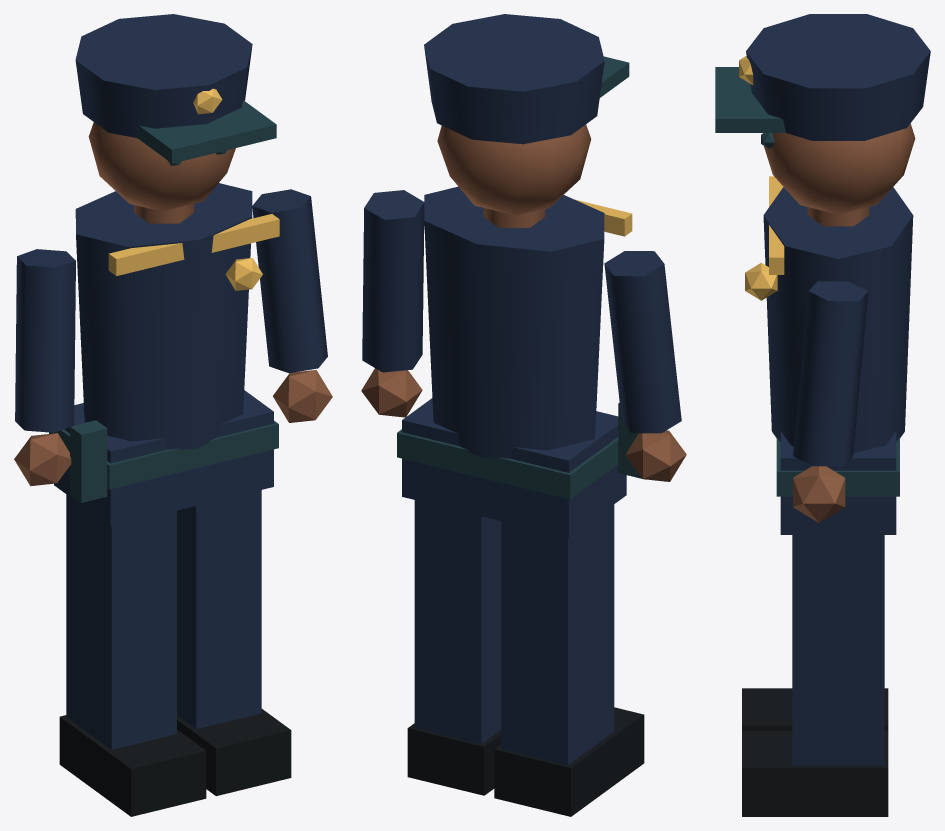
The model's file is staff_security.glb.
3 views of the same model, side by side, from view 1: azimuth 30°, elevation 25°; view 2: azimuth 150°, elevation 25°; view 3: azimuth 270°, elevation 25° (orthographic). The views are drawn at different scales.
Parts seen in each view (by area): view 1: staff_security; view 2: staff_security; view 3: staff_security.
Boxes of the visible parts, left/top/right/bottom form: staff_security: left=14, top=14, right=332, bottom=816; staff_security: left=361, top=14, right=686, bottom=816; staff_security: left=715, top=14, right=930, bottom=816.
Size of the model in its own units: 0.9289 by 2.08 by 0.56.
